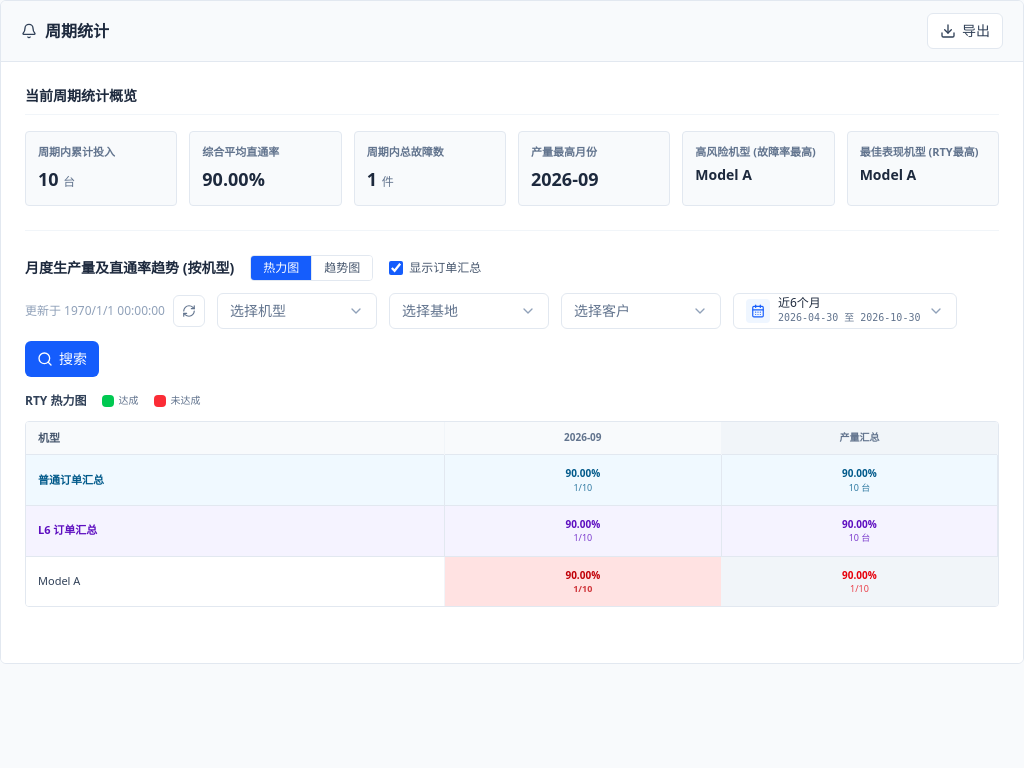
Test: cycle query and export › keeps the date dialog outside the clipped statistics container and applies dates
Expected: the row "Model A 90.00% 1/10 90.00% 1/10" is shown, [26,556,998,606]
Step 1. Click the button "近6个月 2026-04-30 至 2026-10-30" → [845, 310], box [733,292,958,328]
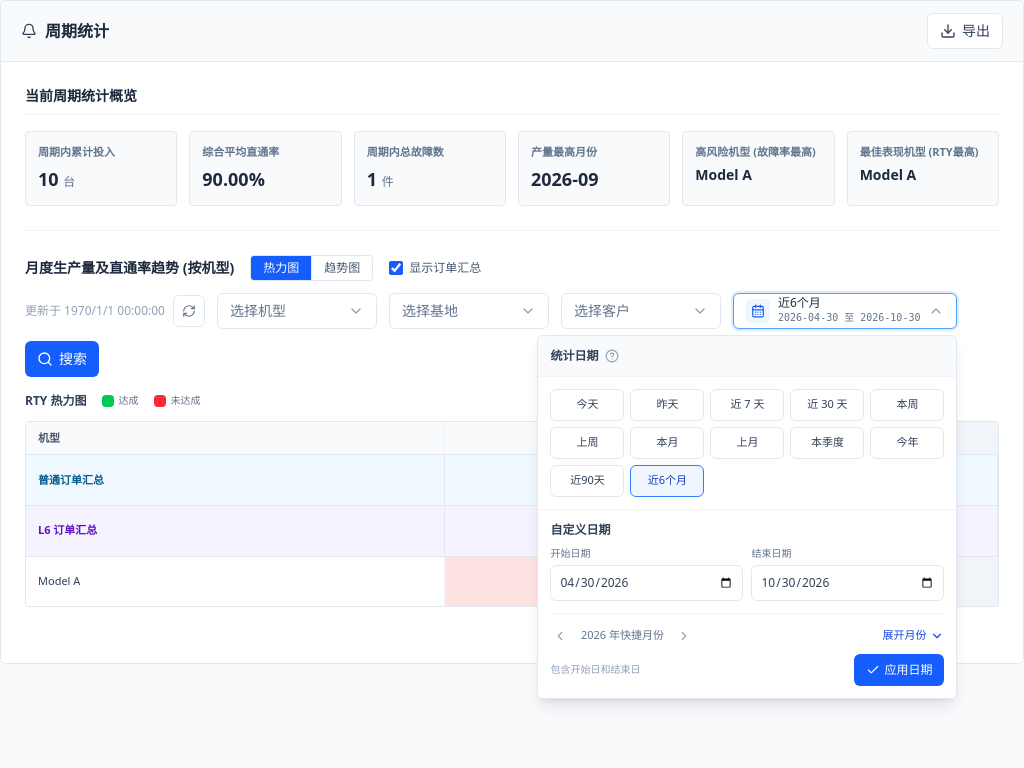
Step 2. Press the mouse on the date field labelled "开始日期" → [647, 582], box [550,564,744,600]
Step 3. Type "2026-09-01" into the date field labelled "开始日期" → [647, 582], box [550,564,744,600]
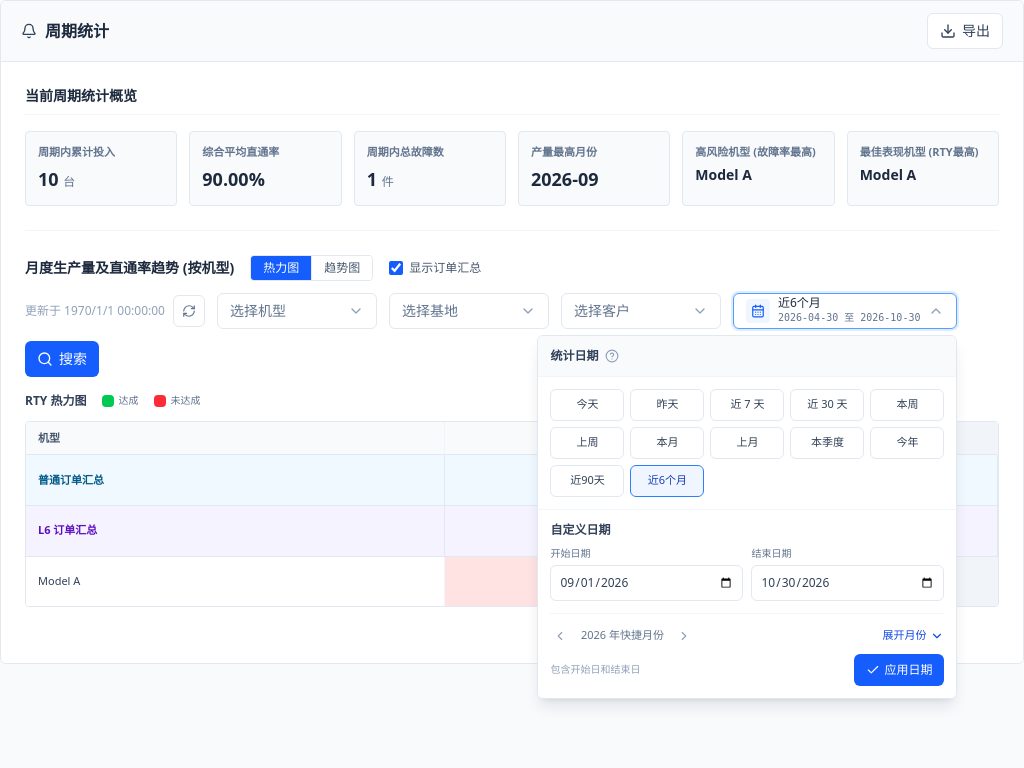
Step 4. Type "2026-09-30" into the date field labelled "结束日期" → [848, 582], box [752,564,944,600]
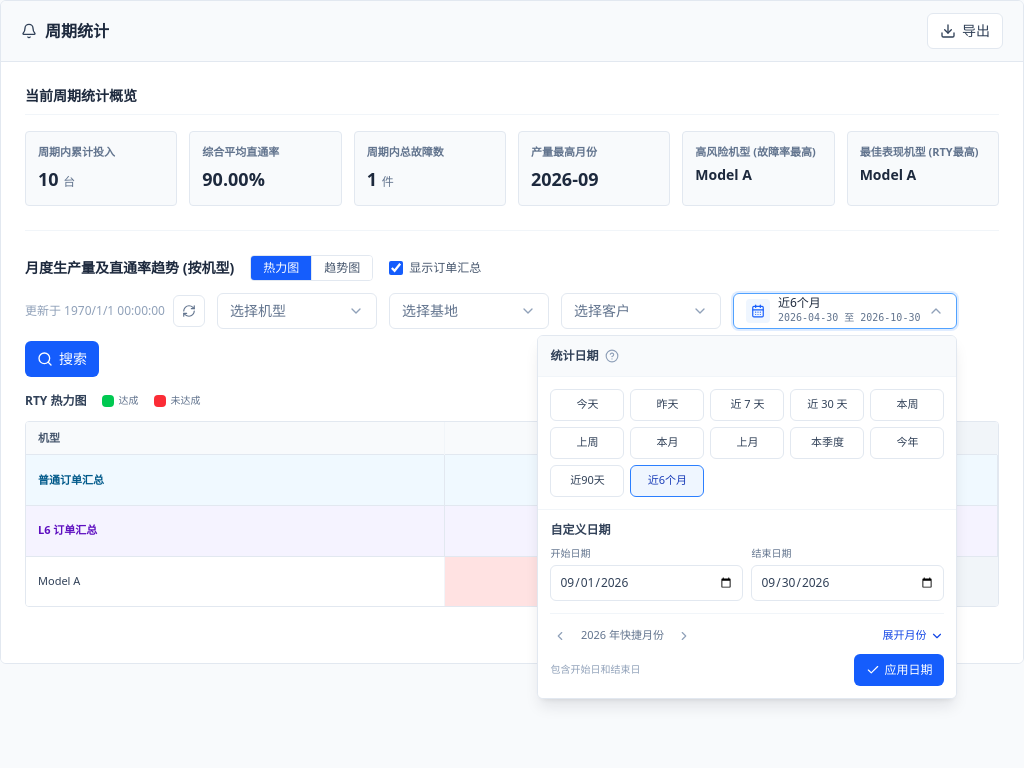
Step 5. Click the button "应用日期" → [900, 670], box [854,654,944,686]
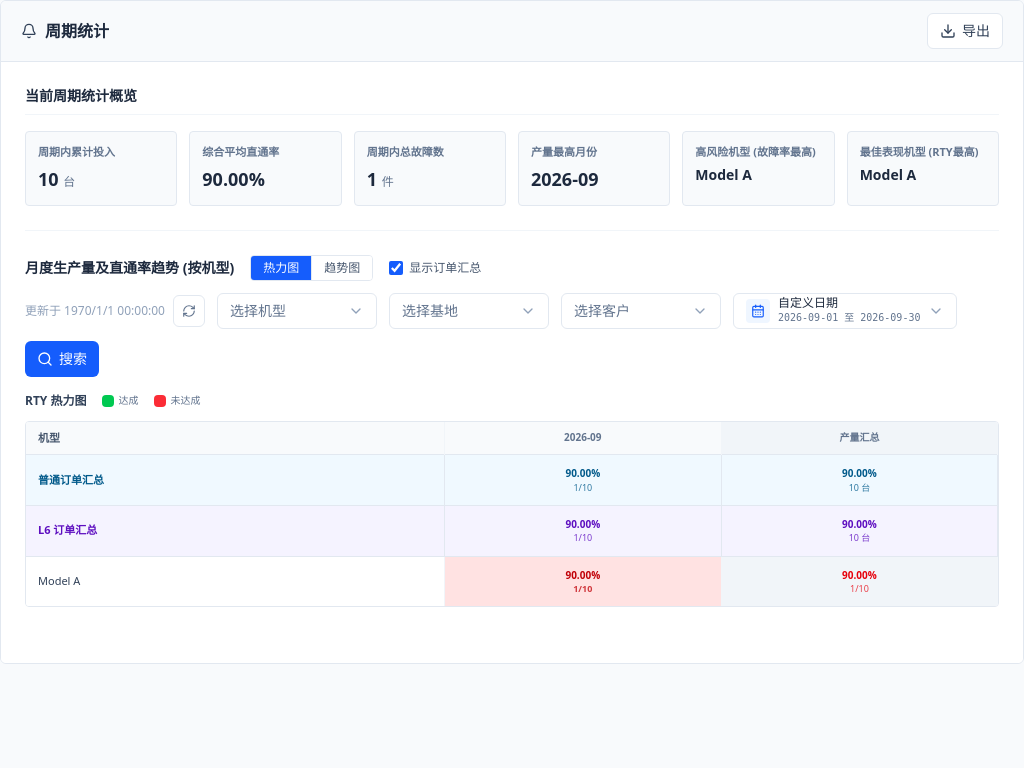
Result: the dialog "选择统计日期" is gone
Result: the button "自定义日期 2026-09-01 至 2026-09-30" is shown at [733,292,958,328]
